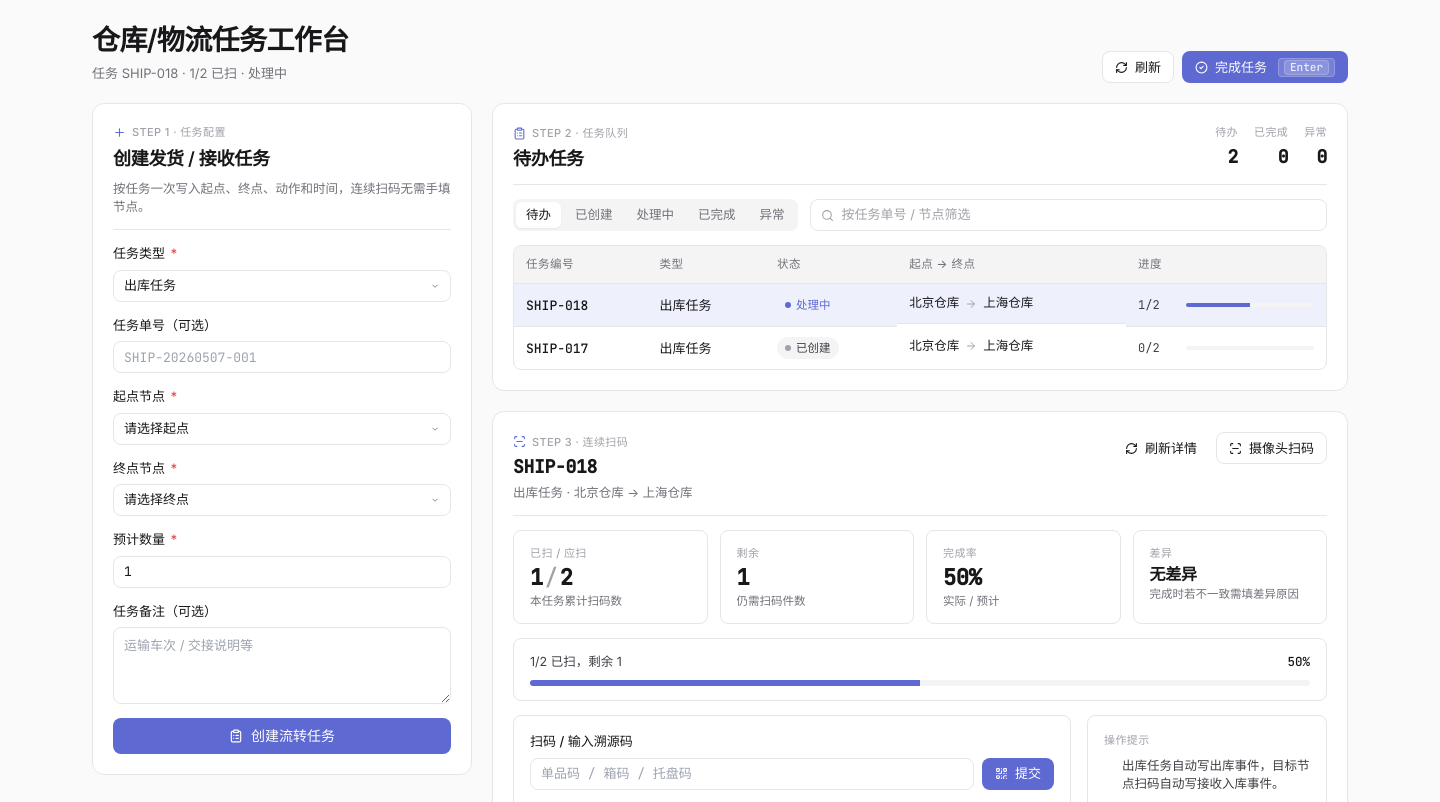
Test: TraceFlowTaskWorkbench › scans trace codes continuously and displays duplicate feedback without manual node fields
Type "TRACE-001" into the field with test id "flow-task-scan-input" at (752, 774), box [530,758,974,790]
(page scrolled)
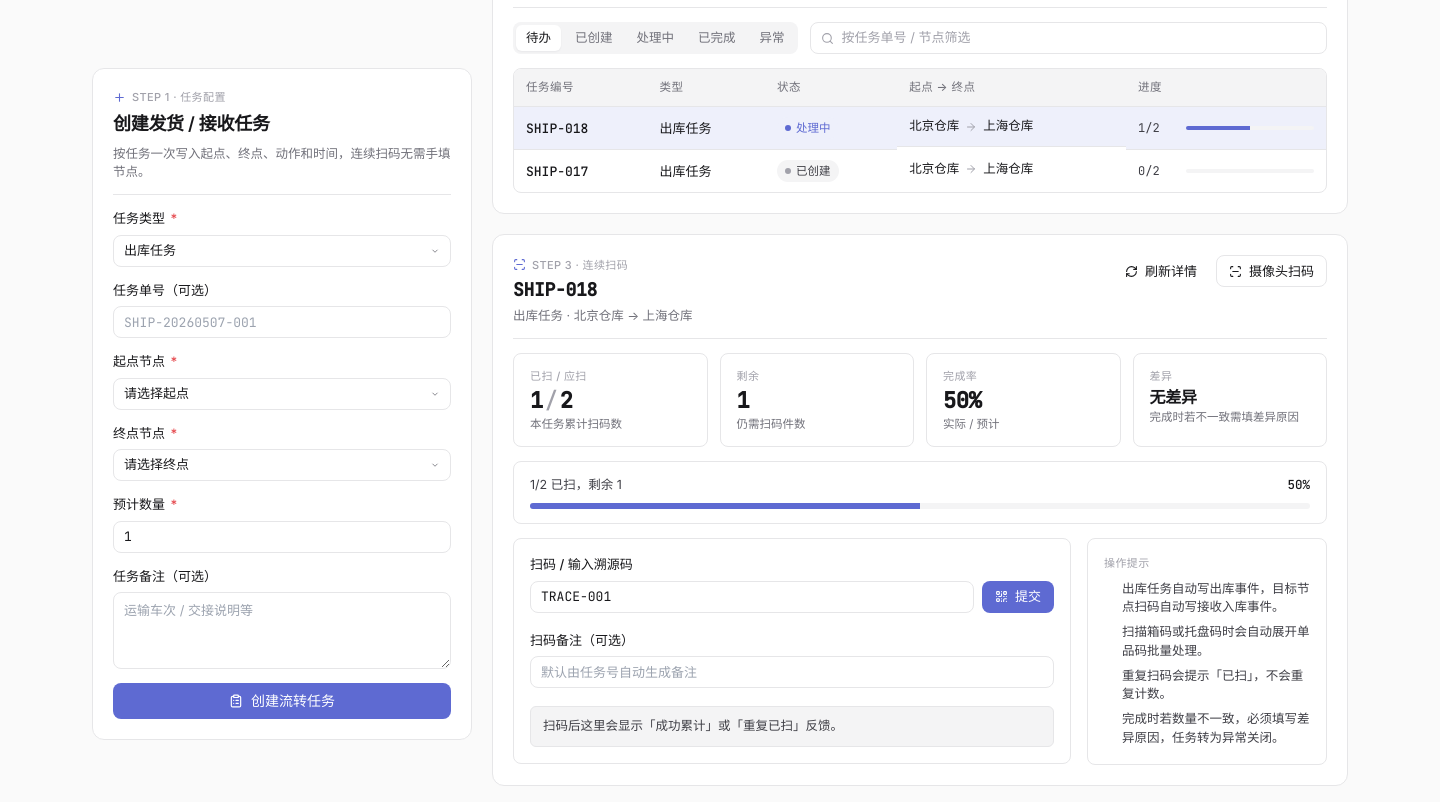
Submit the form with test id "flow-task-scan-form", box [513,538,1071,764]
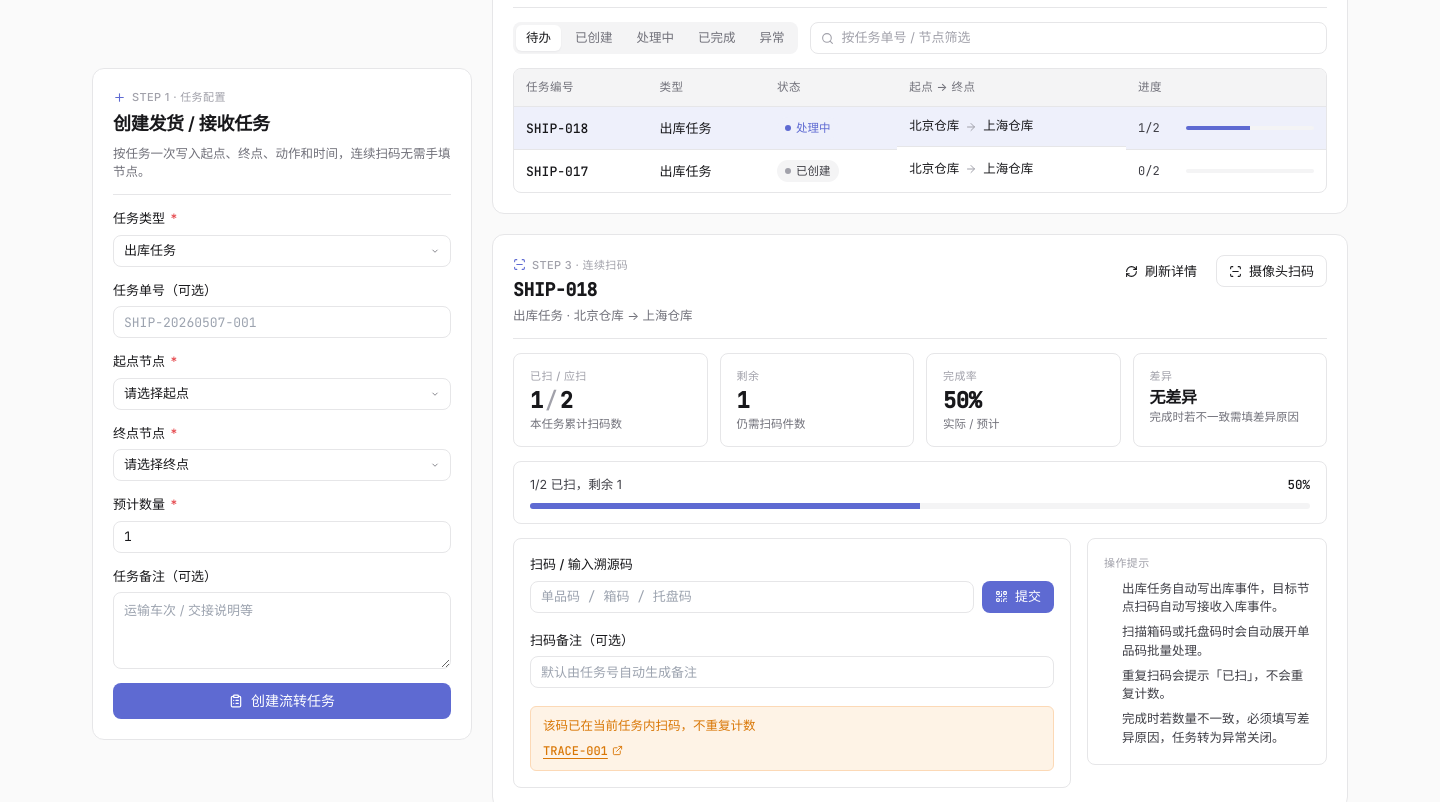
Expected: the text "该码已在当前任务内扫码，不重复计数" is shown, [543,718,756,733]
